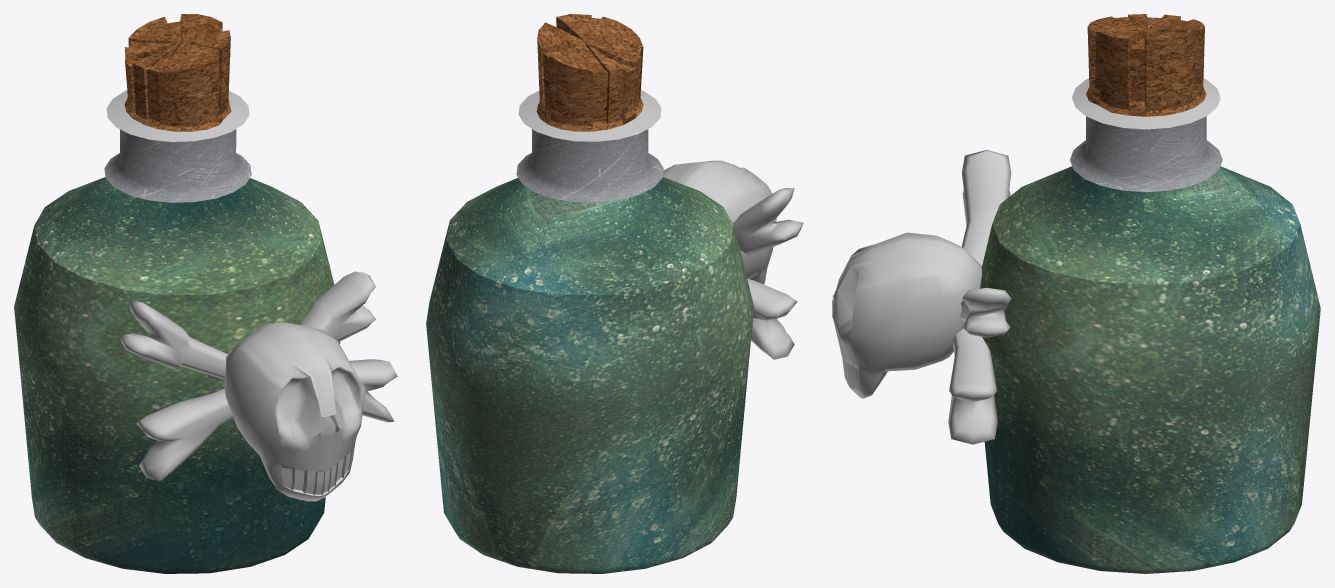
The model's file is Pocion.fbx.
3 views of the same model, side by side, from view 1: azimuth 30°, elevation 25°; view 2: azimuth 150°, elevation 25°; view 3: azimuth 270°, elevation 25° (orthographic). The views are drawn at different scales.
Parts seen in each view (by area): view 1: Pocion, calavera, Hueso_2; view 2: Pocion, Hueso_2, calavera; view 3: Pocion, calavera, Hueso_2.
Boxes of the visible parts, bbox=[...] form: Pocion: bbox=[14, 14, 340, 573]; calavera: bbox=[224, 322, 365, 501]; Hueso_2: bbox=[119, 271, 397, 481]; Pocion: bbox=[426, 14, 753, 573]; Hueso_2: bbox=[732, 188, 803, 359]; calavera: bbox=[662, 160, 776, 284]; Pocion: bbox=[980, 14, 1320, 573]; calavera: bbox=[832, 232, 982, 398]; Hueso_2: bbox=[948, 150, 1011, 444].
Bounding box in the file's own units: 5.12 × 8.33 × 7.42.
